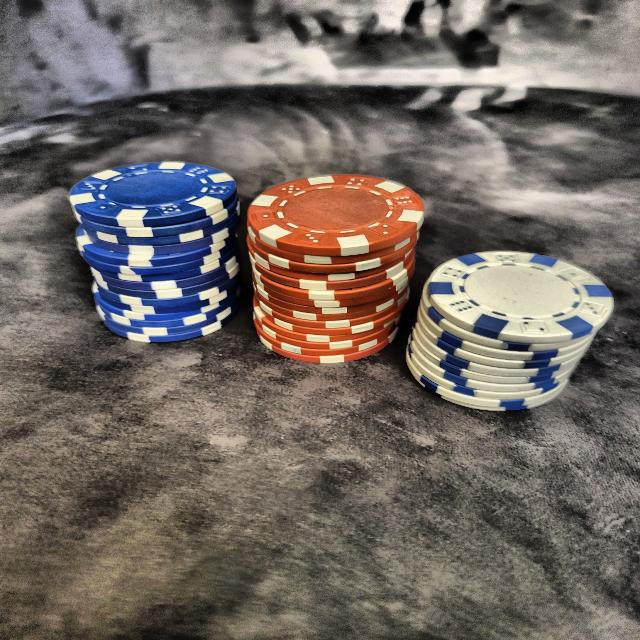Chip: (396, 223, 616, 429), (67, 130, 254, 368), (239, 147, 424, 384)
